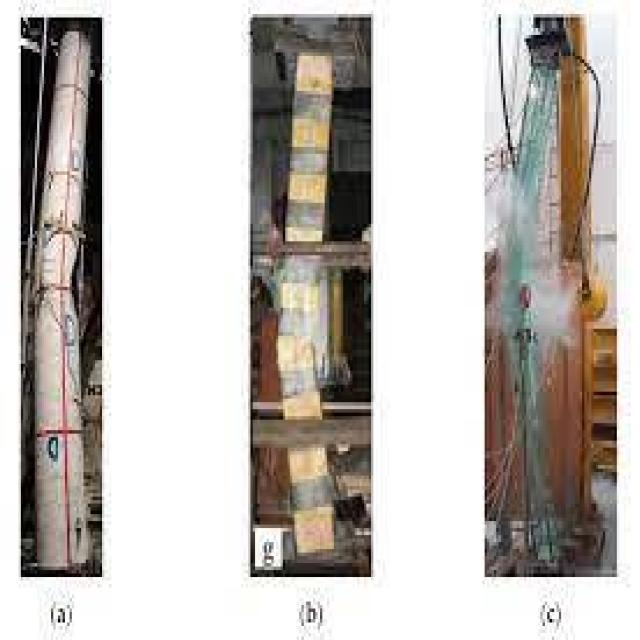Buckling_Beam: (245, 15, 376, 579), (481, 3, 602, 576), (19, 19, 116, 588)
